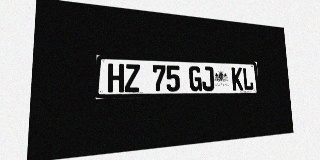5: (166, 65, 180, 92)
7: (152, 65, 166, 92)
G: (189, 66, 202, 91)
H: (108, 63, 124, 92)
J: (201, 66, 214, 91)
K: (231, 67, 243, 90)
L: (242, 68, 254, 90)
Z: (124, 64, 140, 92)
